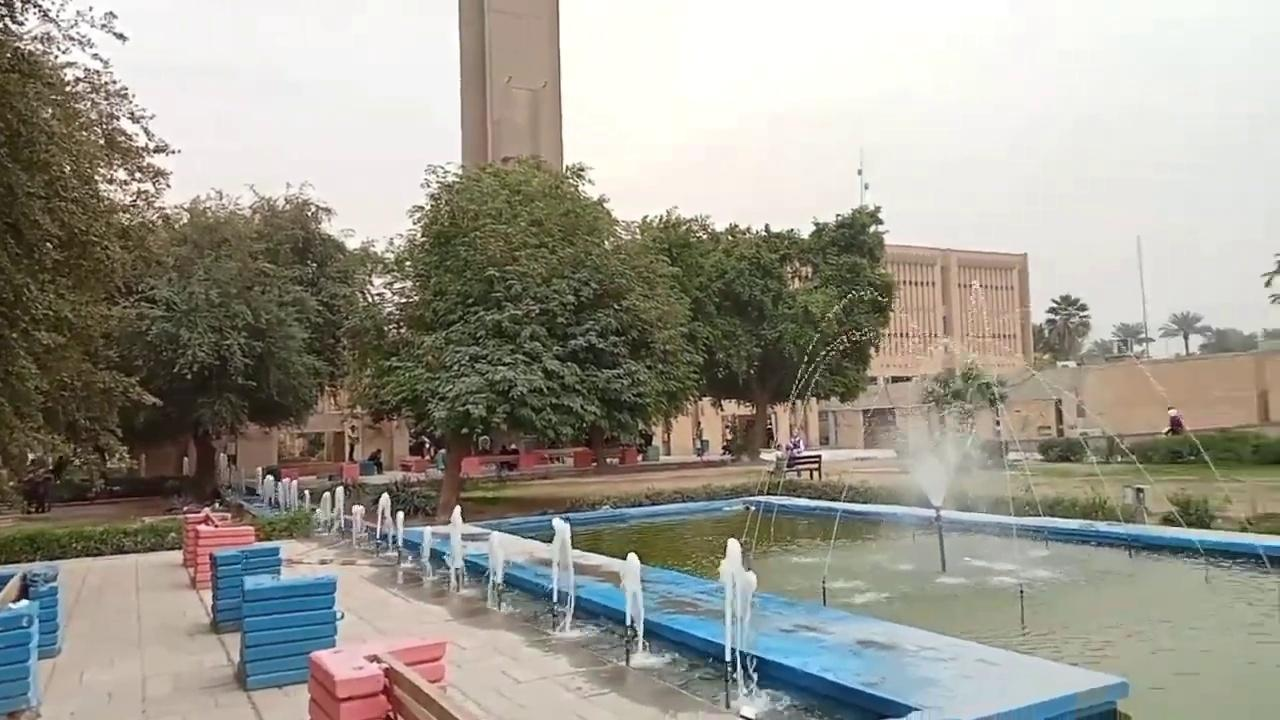fountain: (184, 463, 1275, 718), (716, 535, 759, 707), (538, 515, 584, 636), (616, 549, 645, 659)
person: (784, 427, 805, 477), (1163, 406, 1186, 436), (346, 424, 358, 462), (367, 448, 383, 474), (496, 444, 509, 475)
tree: (0, 0, 377, 507), (346, 152, 696, 523), (0, 0, 180, 505), (120, 179, 379, 505), (696, 203, 896, 461), (629, 206, 798, 458), (920, 356, 1011, 464), (1040, 292, 1091, 361), (1157, 309, 1212, 354), (1110, 320, 1152, 354), (1260, 251, 1279, 305)
